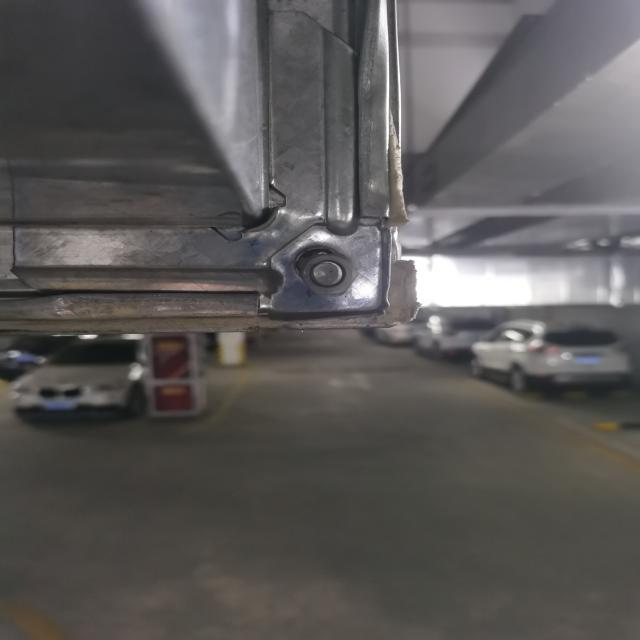bolt nut: (296, 249, 360, 297)
